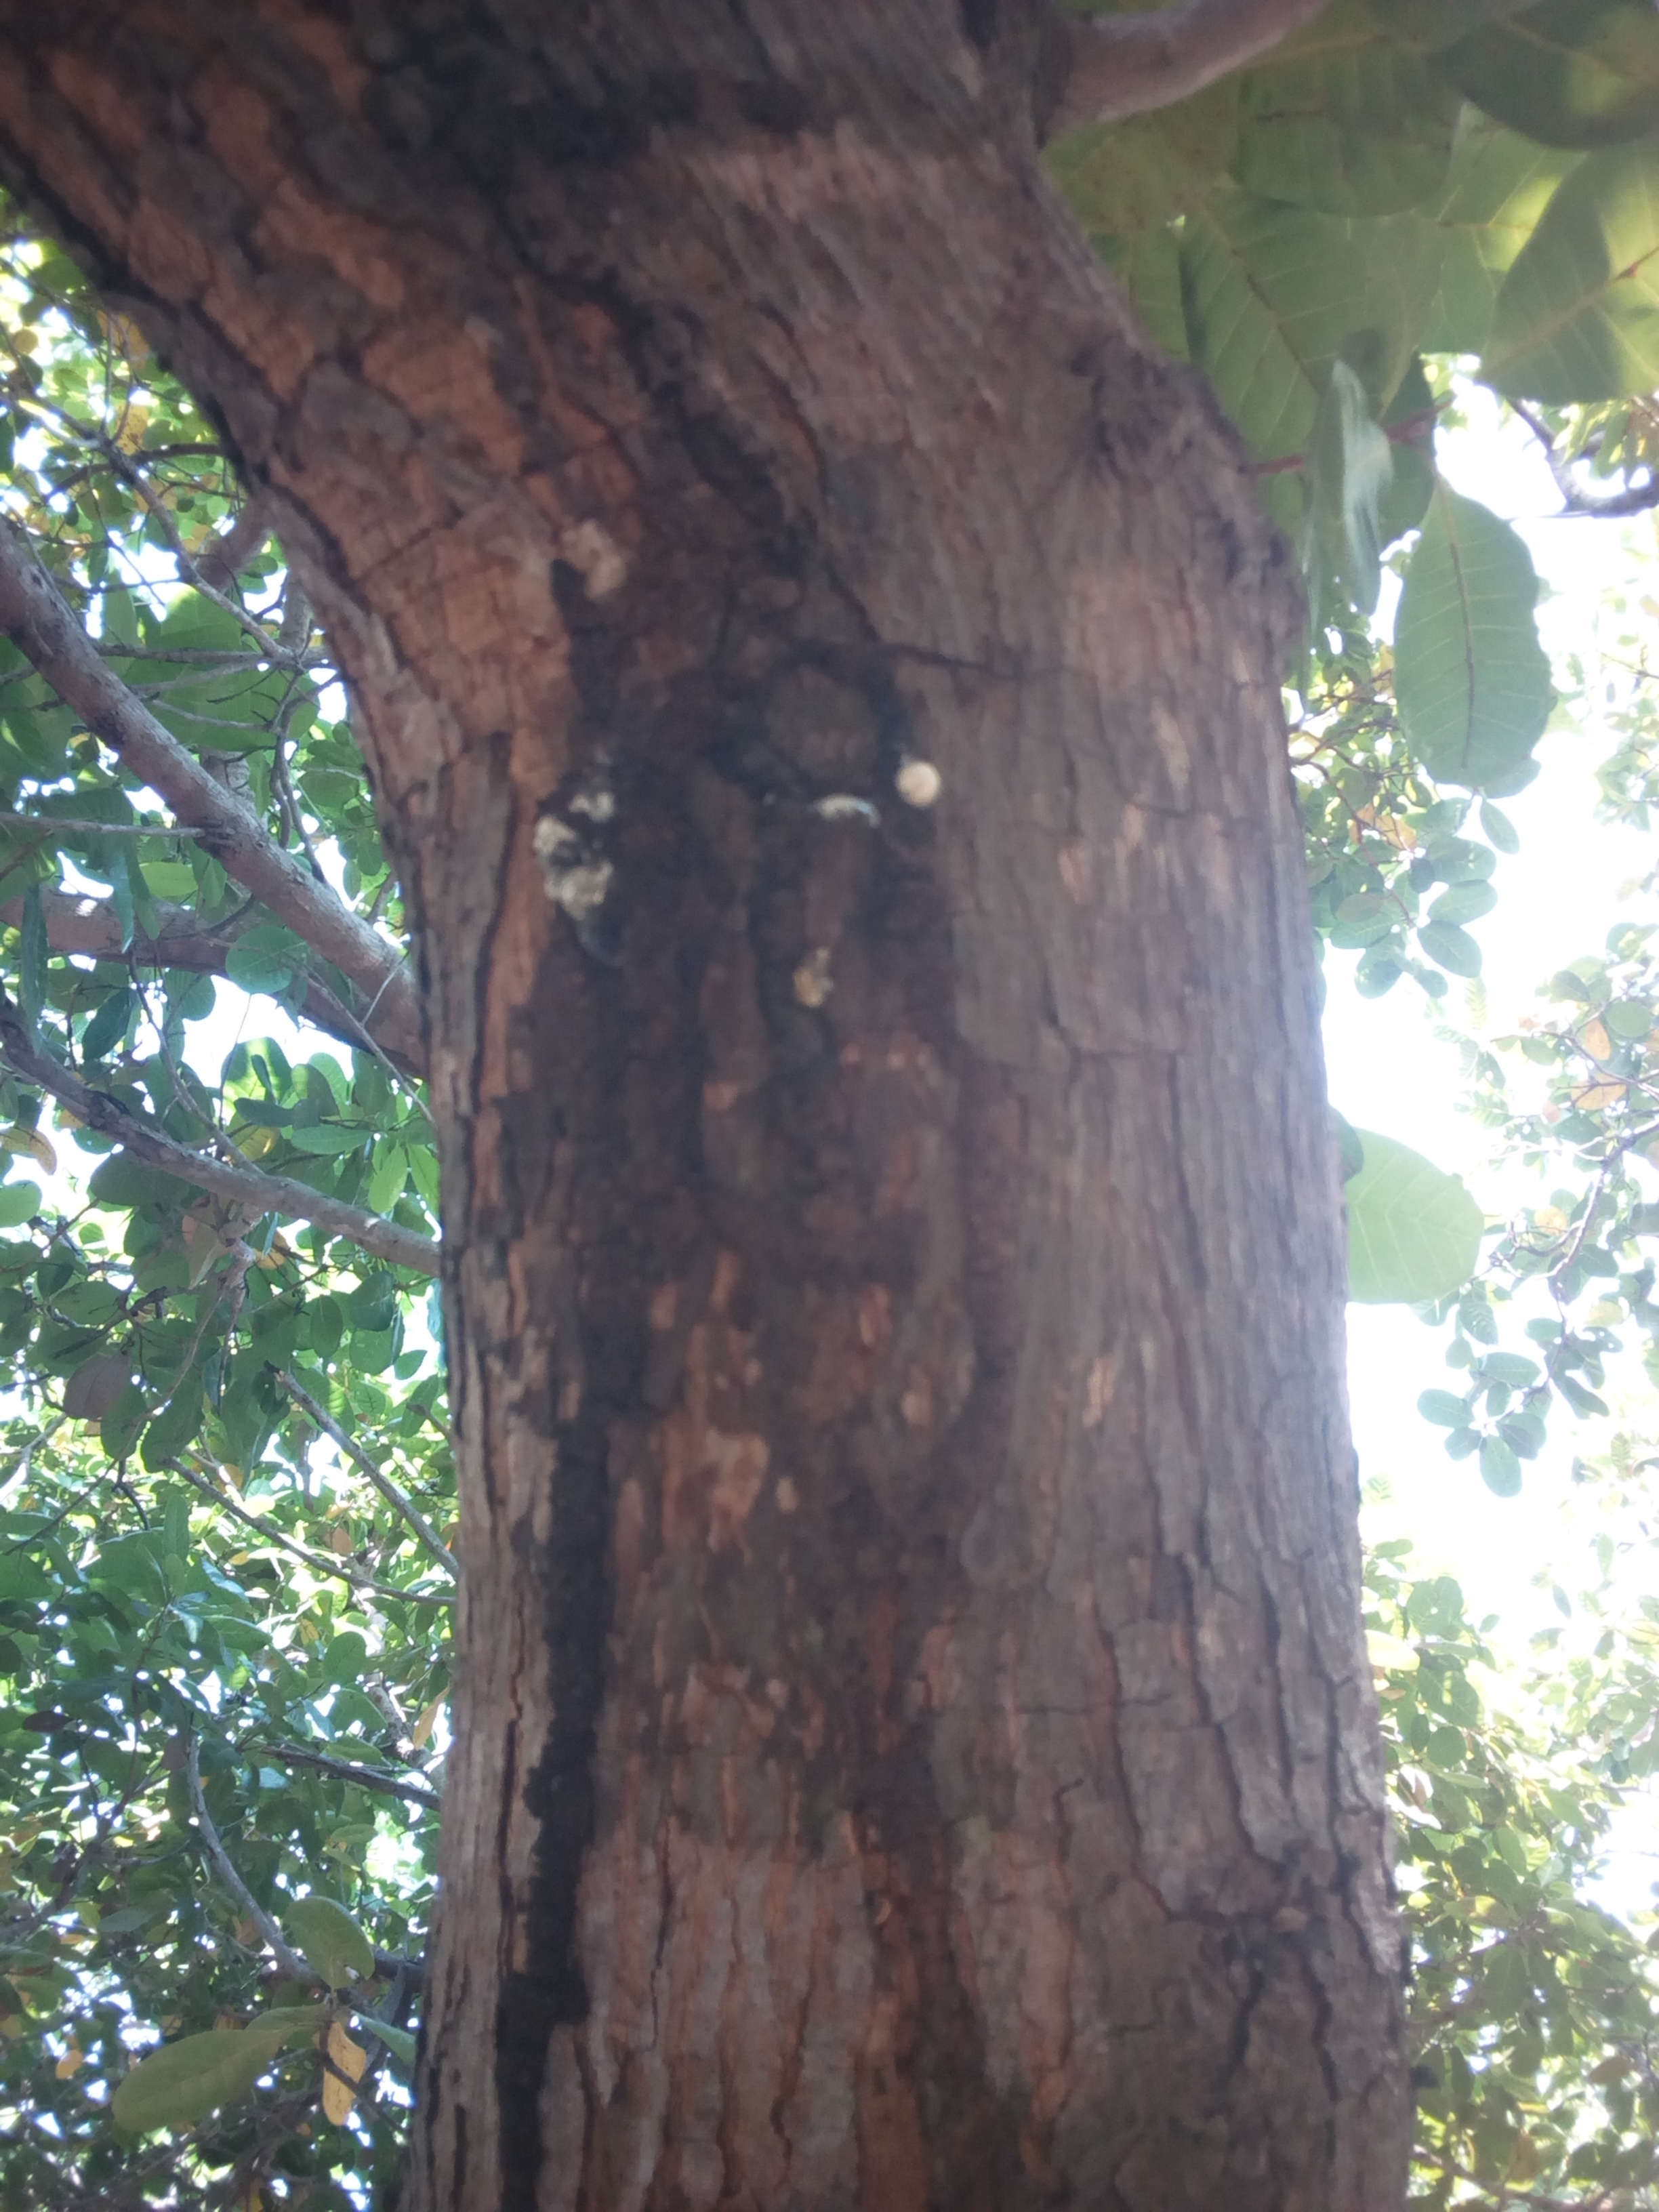Termites: (514, 543, 1023, 2212)
